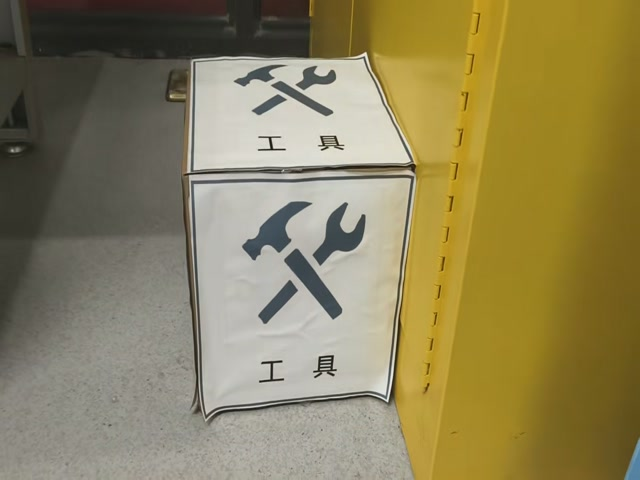Cube_tool: (182, 51, 415, 182)
